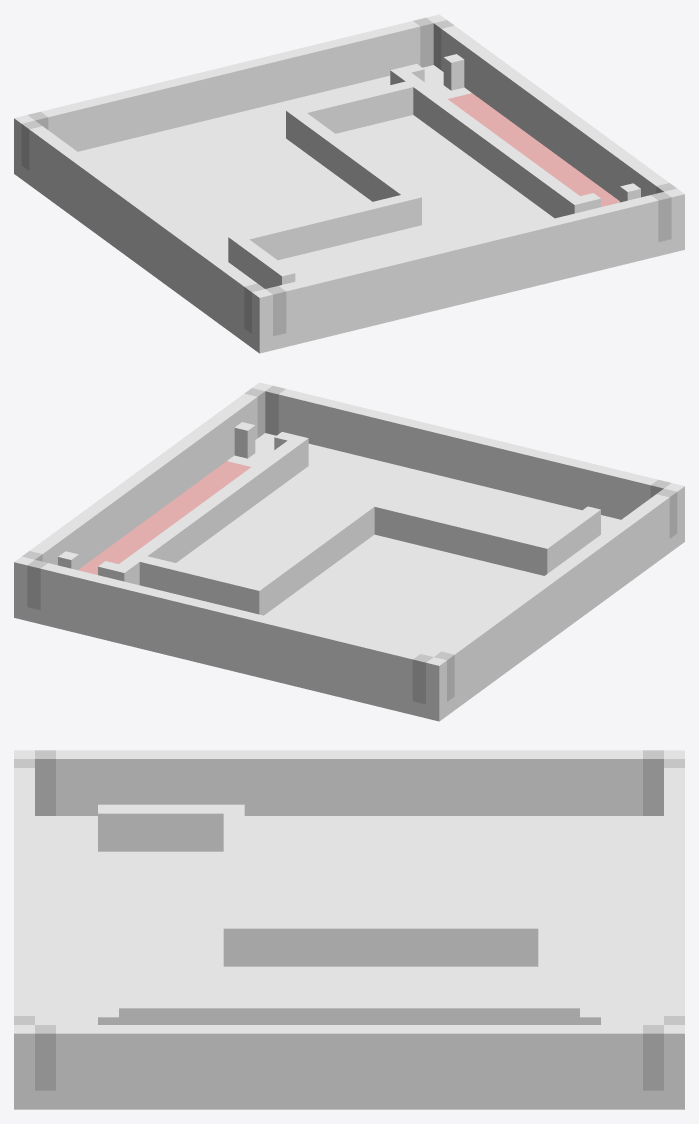
The model's file is map.gltf.
3 renders of one model, top to bottom at view 1: azimuth 30°, elevation 25°; view 2: azimuth 150°, elevation 25°; view 3: azimuth 270°, elevation 25°, orthographic. The views are drawn at different scales.
Bounding box in the file's own units: 32 × 4 × 32.
Materials: 2 (2 with a texture image).
